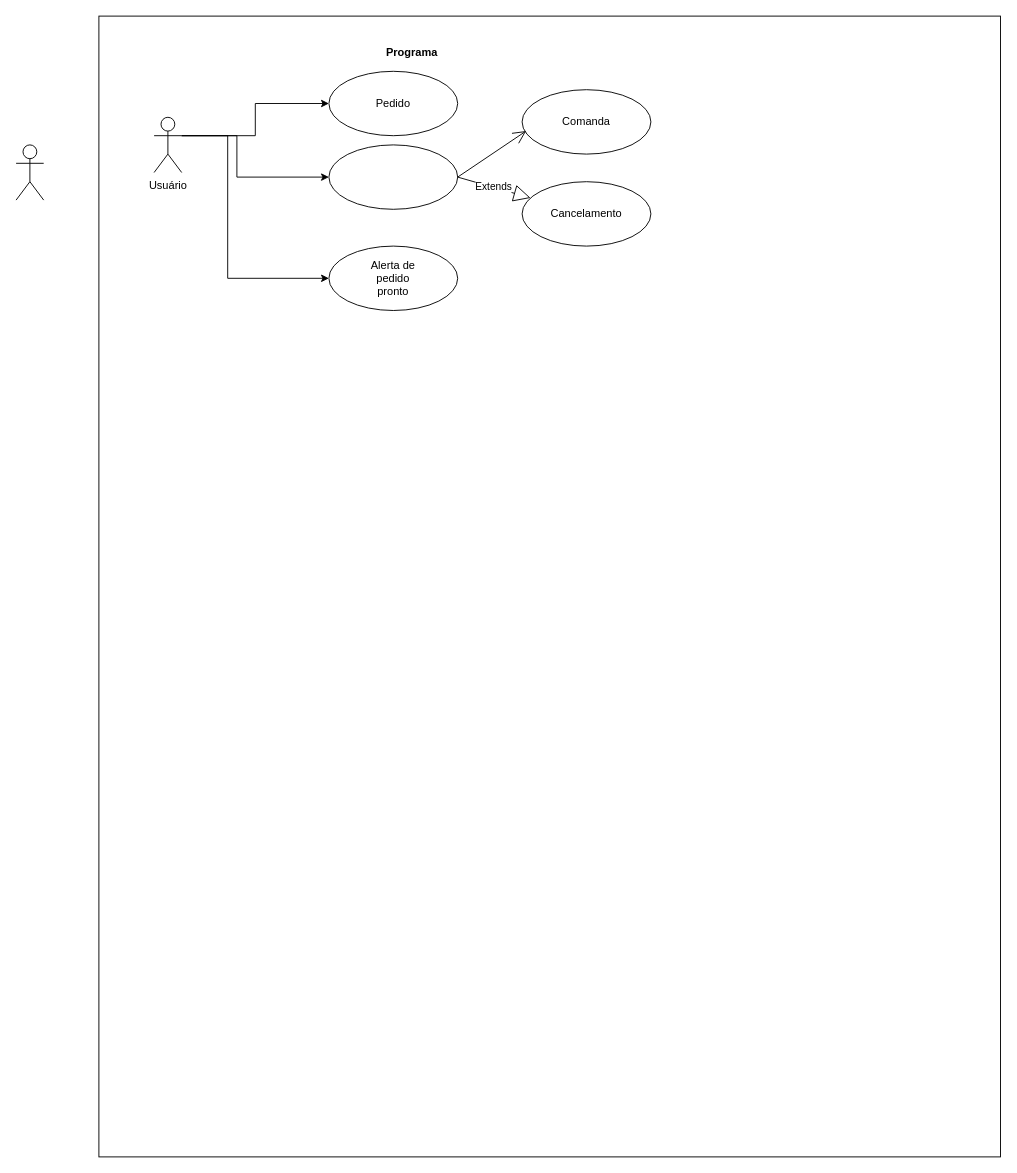
The diagram is 1017 pixels wide and 1173 high, and some of its shapes have lost their labels. Each missing label, with the centre of its shape:
Adm: the point at 29,172
Pagamento: the point at 393,176
